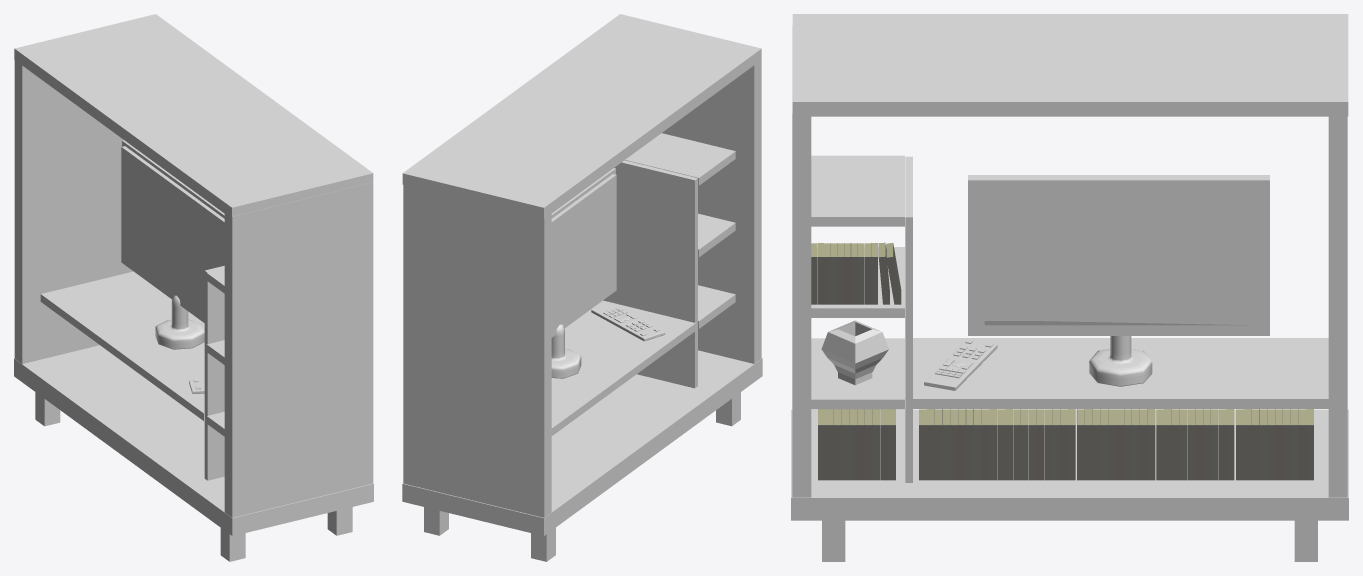
Rendered from tv unit.fbx.
3 views of the same model, side by side, from view 1: azimuth 30°, elevation 25°; view 2: azimuth 150°, elevation 25°; view 3: azimuth 270°, elevation 25° (orthographic). The views are drawn at different scales.
Visible parts, largest first — view 1: Cube.001, Cube.011, Cube.004, Cube.012, Cube.010; view 2: Cube.001, Cube.011, Cube.004, Cube.012, Cube.002; view 3: Cube.001, Cube.011, Cube.010, Book0.004, Book0.005, Book0.006, Book0.007, Book0.003, Book0.008, Book0.001, Cube, Cube.012 (+2 smaller).
Part boxes in pixels (<box>): Cube.001: <box>14,14,373,536</box>; Cube.011: <box>121,146,224,322</box>; Cube.004: <box>35,392,352,561</box>; Cube.012: <box>155,295,204,349</box>; Cube.010: <box>122,140,224,218</box>; Cube.001: <box>402,14,762,535</box>; Cube.011: <box>551,174,616,337</box>; Cube.004: <box>424,392,740,561</box>; Cube.012: <box>551,324,581,378</box>; Cube.002: <box>591,303,665,341</box>; Cube.001: <box>791,14,1348,520</box>; Cube.011: <box>984,192,1253,325</box>; Cube.010: <box>968,175,1269,335</box>; Book0.004: <box>919,409,997,480</box>; Book0.005: <box>997,409,1075,480</box>; Book0.006: <box>1077,409,1155,480</box>; Book0.007: <box>1156,409,1234,480</box>; Book0.003: <box>818,409,895,480</box>; Book0.008: <box>1236,409,1313,480</box>; Book0.001: <box>811,242,901,304</box>; Cube: <box>821,320,888,385</box>; Cube.012: <box>1089,336,1152,386</box>.
Bounding box in the file's own units: 280 × 690 × 749.
